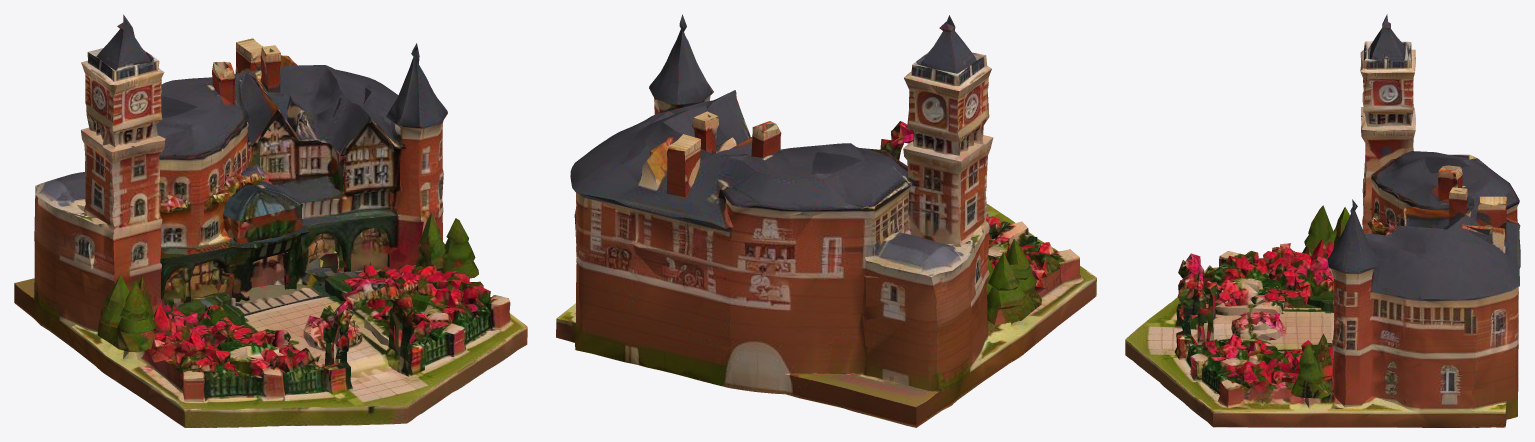
Rendered from shiroi-koibito-park.glb.
3 renders of one model, left to right at view 1: azimuth 30°, elevation 25°; view 2: azimuth 150°, elevation 25°; view 3: azimuth 270°, elevation 25°, orthographic. The views are drawn at different scales.
Parts seen in each view (by area): view 1: logan-textured.obj; view 2: logan-textured.obj; view 3: logan-textured.obj.
Part boxes in pixels (box(x1,y1,x2,y2)): logan-textured.obj: box(14, 14, 527, 427); logan-textured.obj: box(556, 14, 1096, 427); logan-textured.obj: box(1125, 14, 1520, 427).
Bounding box in the file's own units: 0.895 × 0.797 × 1.
Materials: 1 (1 with a texture image).
